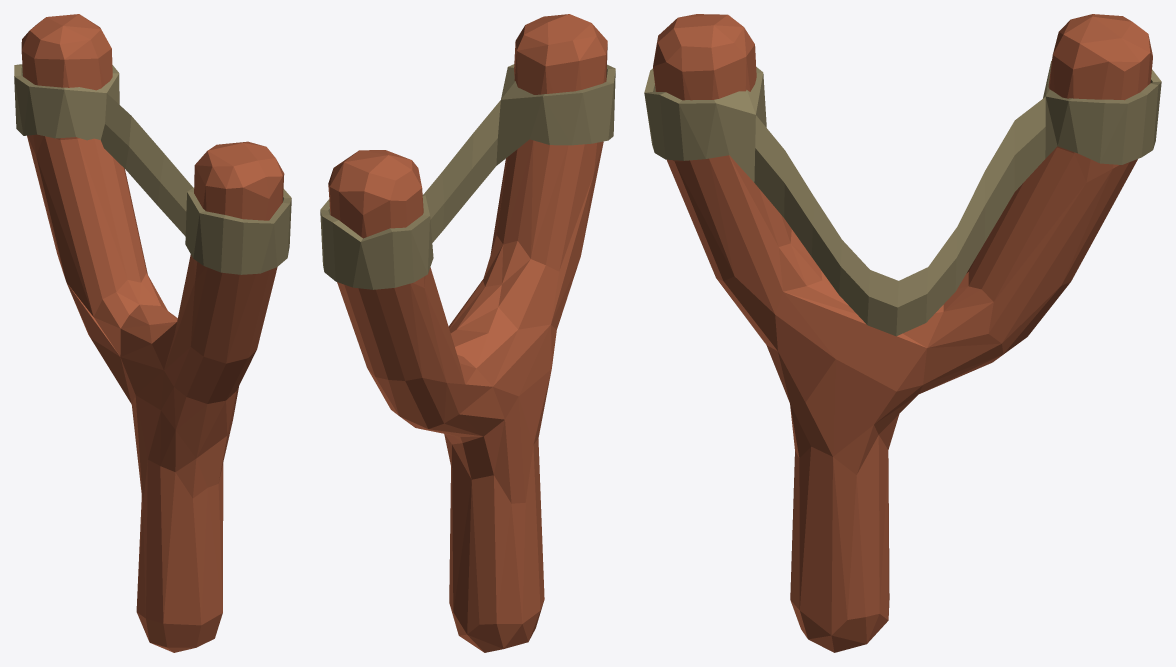
File: lowpoly_slingshot.glb
3 renders of one model, left to right at view 1: azimuth 30°, elevation 25°; view 2: azimuth 150°, elevation 25°; view 3: azimuth 270°, elevation 25°, orthographic. The views are drawn at different scales.
Visible parts, largest first — view 1: Cube.001; view 2: Cube.001; view 3: Cube.001.
Part boxes in pixels (left/top/right/bottom): Cube.001: left=14, top=14, right=291, bottom=652; Cube.001: left=320, top=14, right=615, bottom=652; Cube.001: left=644, top=14, right=1161, bottom=652.
Size of the model in its own units: 1.37 by 4.71 by 3.54.
